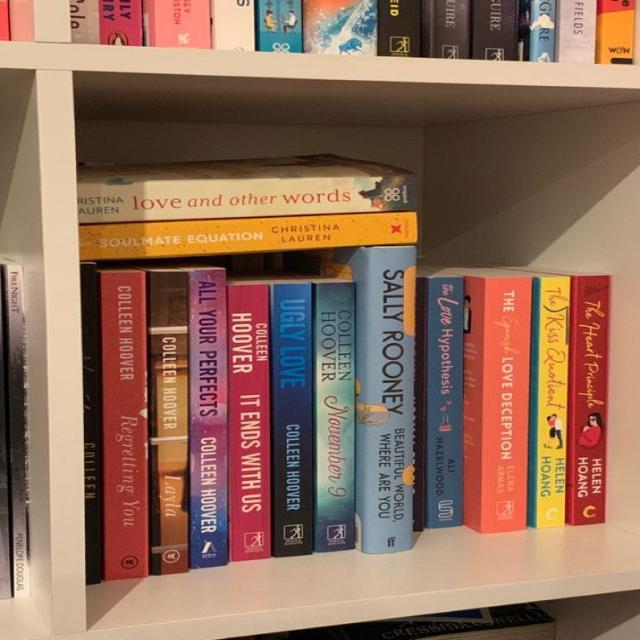book: (350, 247, 415, 553), (78, 176, 416, 225), (81, 212, 416, 260), (100, 271, 149, 580), (148, 273, 188, 574), (269, 283, 313, 556), (187, 270, 227, 569), (228, 283, 270, 561), (419, 278, 464, 529), (484, 278, 528, 530), (565, 276, 609, 525), (313, 284, 354, 551), (528, 276, 567, 529), (81, 264, 102, 584)
